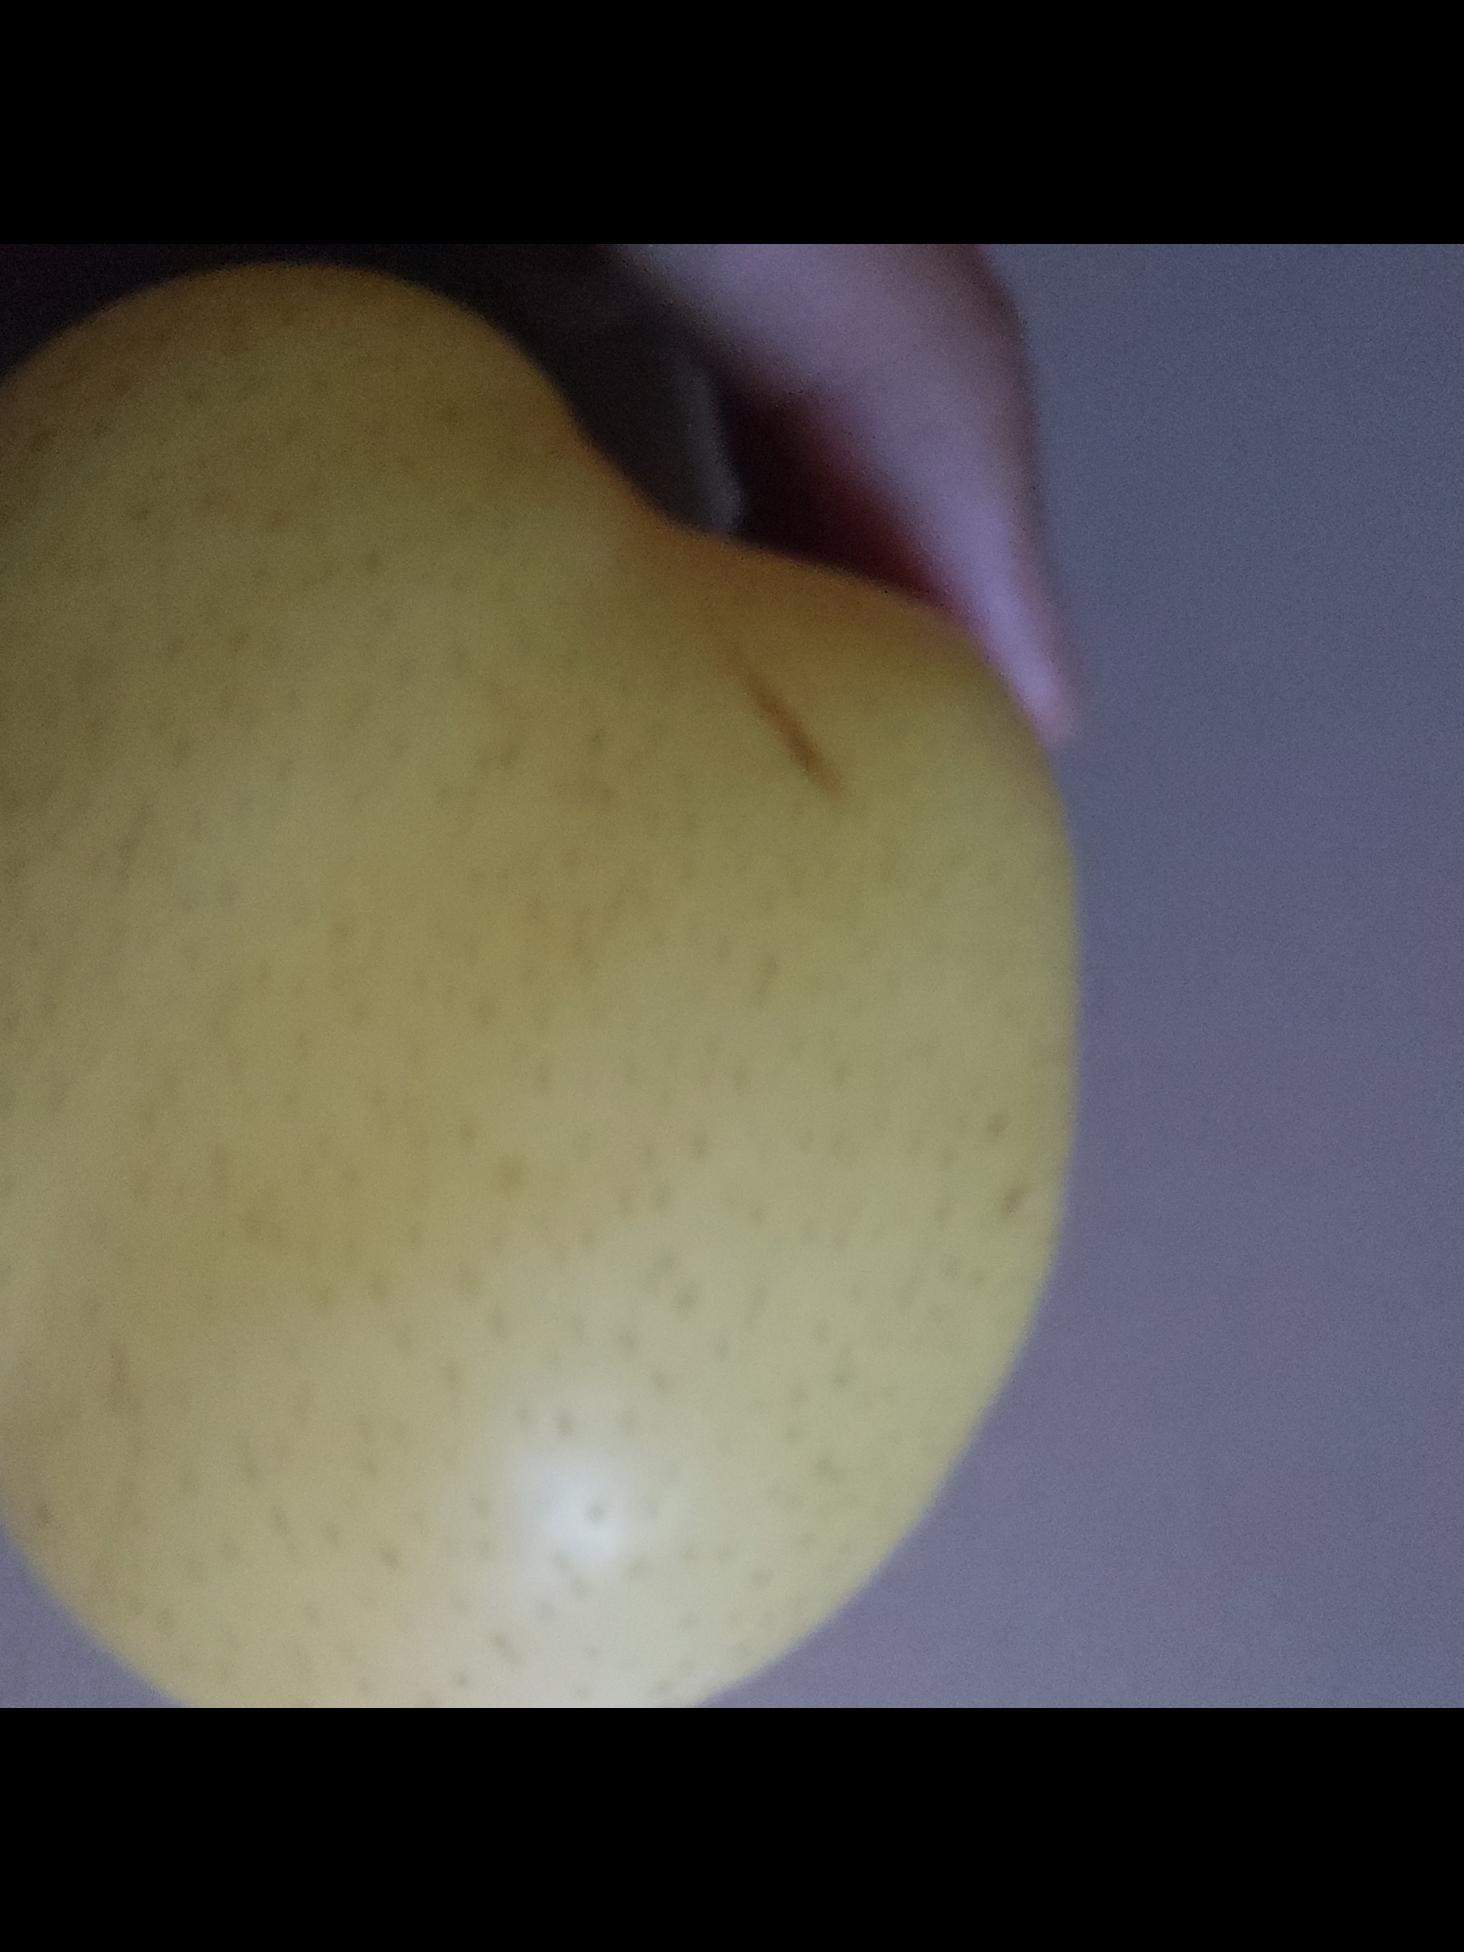Good Pear: (0, 271, 1073, 1708)
